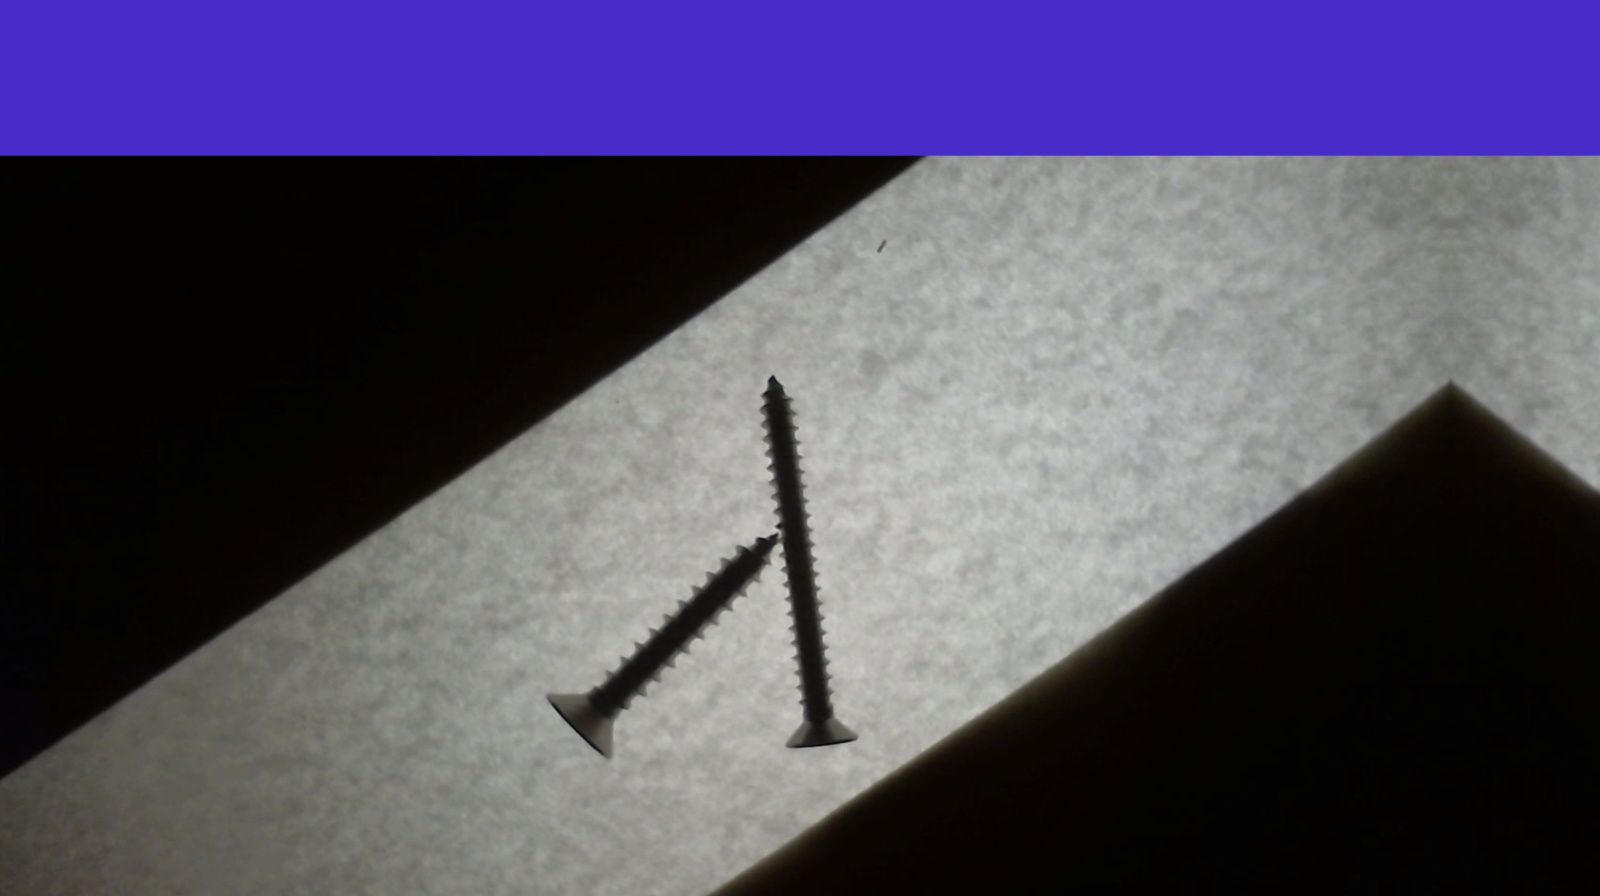S001: (542, 540, 773, 762)
S002: (753, 377, 856, 757)
